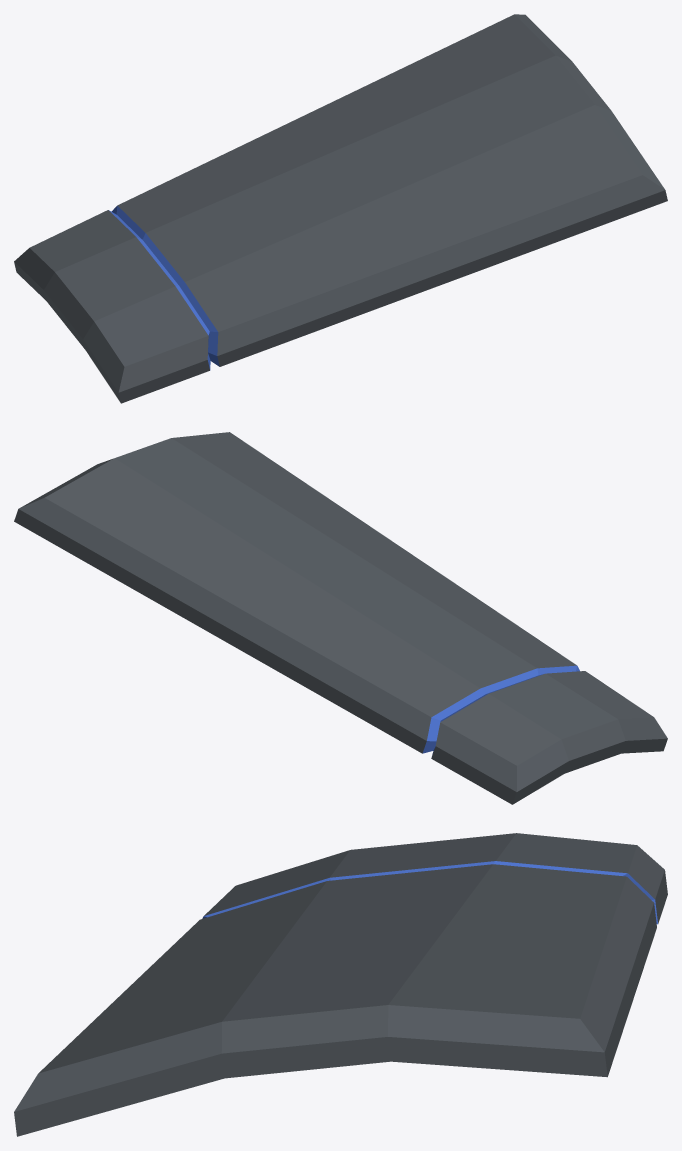
File: Fighter_06_Rear_Wing_Right_Blue.fbx
The picture shows the model from 3 angles, top to bottom: view 1: azimuth 30°, elevation 25°; view 2: azimuth 150°, elevation 25°; view 3: azimuth 270°, elevation 25°; orthographic projection. The views are drawn at different scales.
Parts seen in each view (by area): view 1: Fighter_06_Rear_Wing_Right_Blue; view 2: Fighter_06_Rear_Wing_Right_Blue; view 3: Fighter_06_Rear_Wing_Right_Blue.
Boxes of the visible parts, left/top/right/bottom form: Fighter_06_Rear_Wing_Right_Blue: left=14, top=14, right=667, bottom=403; Fighter_06_Rear_Wing_Right_Blue: left=14, top=432, right=667, bottom=804; Fighter_06_Rear_Wing_Right_Blue: left=14, top=833, right=667, bottom=1136.
Bounding box in the file's own units: 394 × 143 × 243.
1 material, 1 textured.
